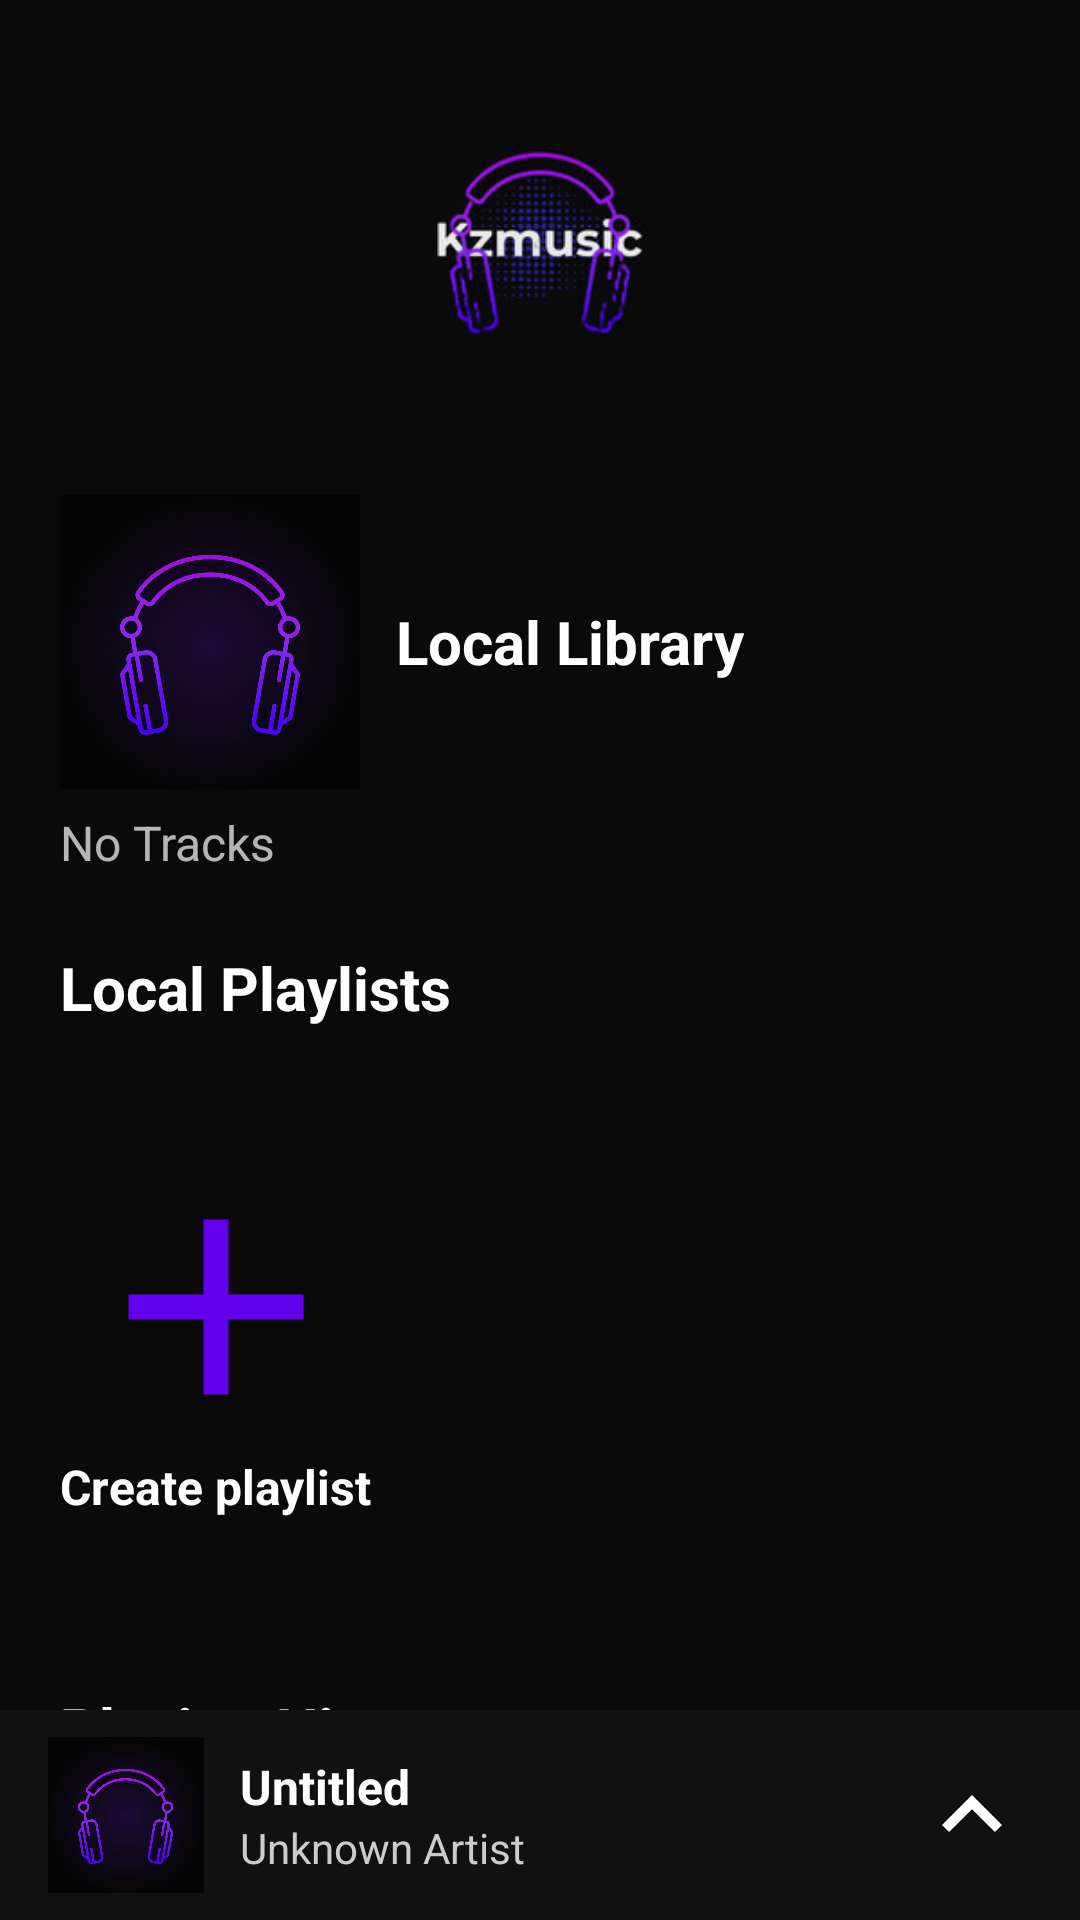

Screen size 1080 x 1920. Icon name, then its box in pixels as (x1, y1, x2, y2):
add: (128, 1219, 304, 1395)
